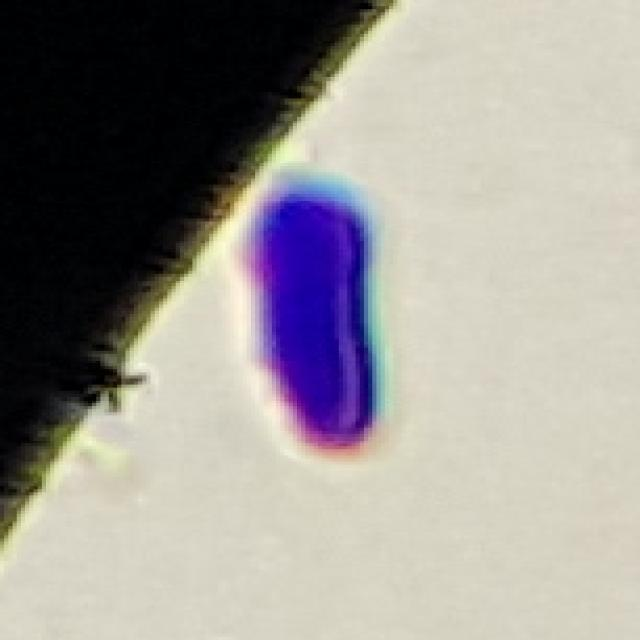non-sperm: (233, 172, 388, 455)
